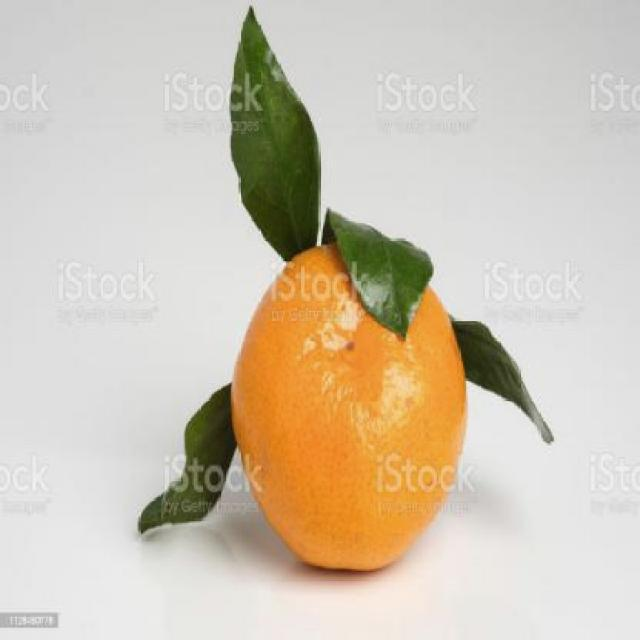Jeruk Sudah Matang: (234, 243, 466, 571)
